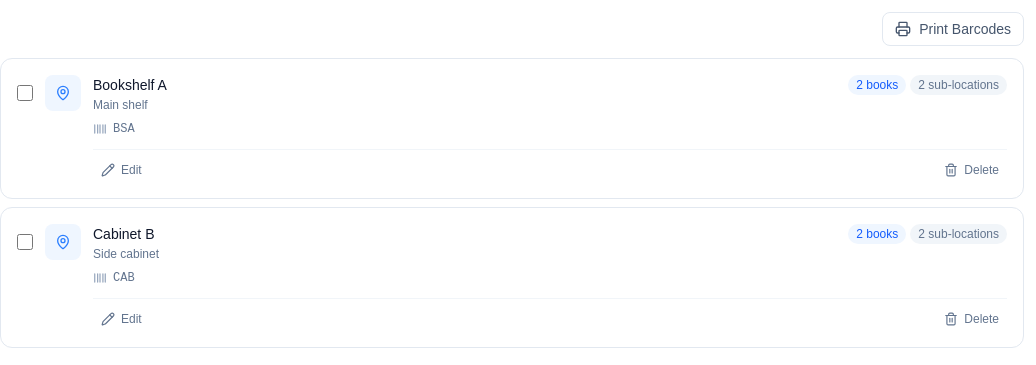
Test: LocationsList — checkbox selection › increments count when multiple checkboxes are ticked
Click the checkbox named "select bookshelf a" at (25, 93), box [17,85,33,101]
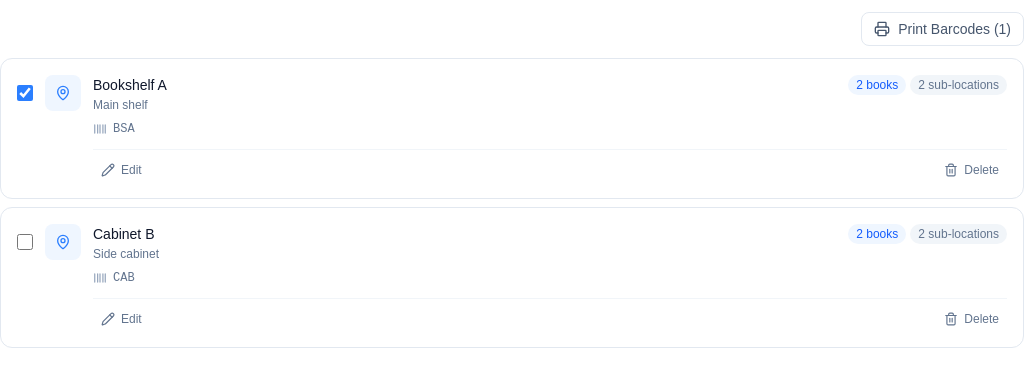
Click the checkbox named "select cabinet b" at (25, 242), box [17,234,33,250]
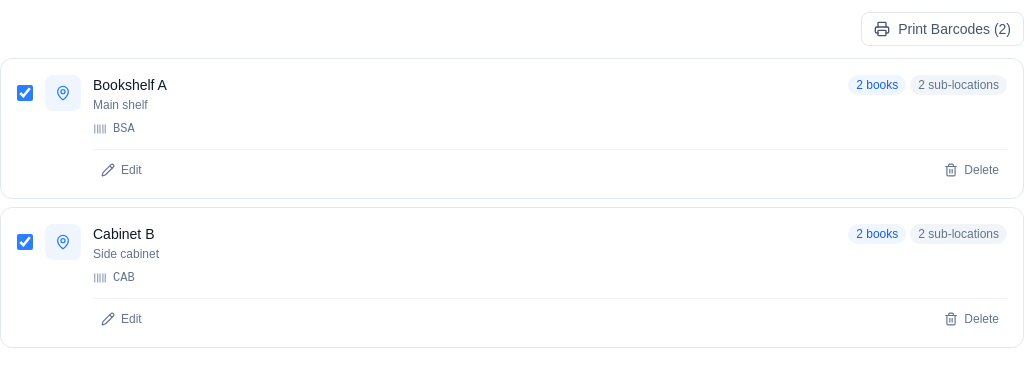
Check: the button "Print Barcodes (2)" is shown, box [861,12,1024,46]
